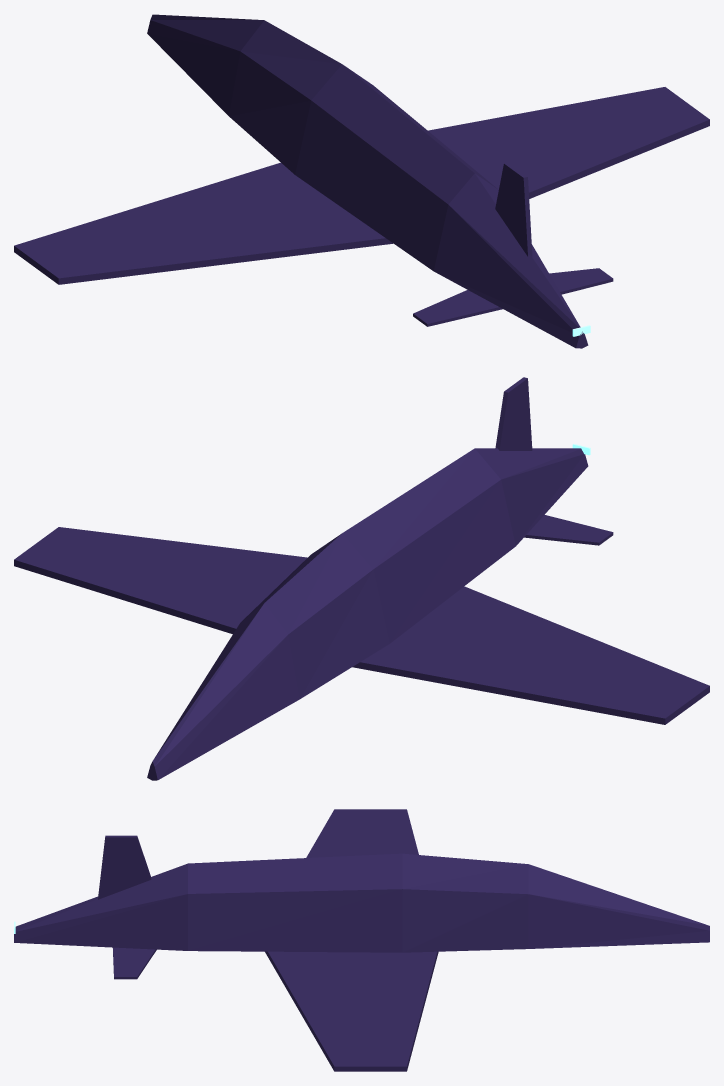
Rendered from 06_skyline_heavy_transport.glb.
3 views of the same model, one above another, from view 1: azimuth 30°, elevation 25°; view 2: azimuth 150°, elevation 25°; view 3: azimuth 270°, elevation 25° (orthographic). The views are drawn at different scales.
Visible parts, largest first — view 1: fuselage_0, wing_1, wing_2, fin_5, tailplane_3, tailplane_4; view 2: fuselage_0, wing_1, wing_2, fin_5, tailplane_3; view 3: fuselage_0, wing_2, wing_1, fin_5, tailplane_4.
Boxes of the visible parts, left/top/right/bottom form: fuselage_0: left=147, top=14, right=588, bottom=348; wing_1: left=14, top=162, right=392, bottom=284; wing_2: left=428, top=87, right=709, bottom=198; fin_5: left=495, top=162, right=532, bottom=256; tailplane_3: left=413, top=290, right=502, bottom=326; tailplane_4: left=549, top=268, right=613, bottom=294; fuselage_0: left=147, top=448, right=588, bottom=780; wing_1: left=352, top=586, right=709, bottom=724; wing_2: left=14, top=527, right=307, bottom=634; fin_5: left=495, top=377, right=532, bottom=450; tailplane_3: left=524, top=514, right=613, bottom=545; fuselage_0: left=14, top=853, right=709, bottom=952; wing_2: left=265, top=951, right=438, bottom=1071; wing_1: left=306, top=809, right=418, bottom=857; fin_5: left=98, top=835, right=151, bottom=899; tailplane_4: left=113, top=947, right=156, bottom=979.
Size of the model in its own units: 42 by 8.11 by 48.
